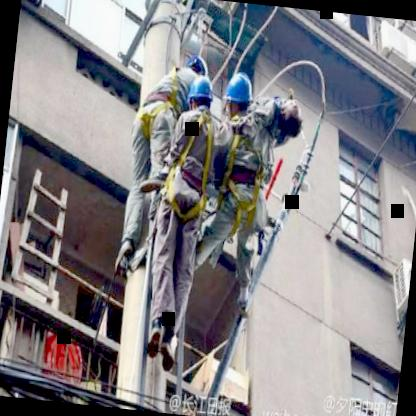helmet: (220, 69, 256, 121), (185, 76, 215, 118), (182, 50, 211, 85)
